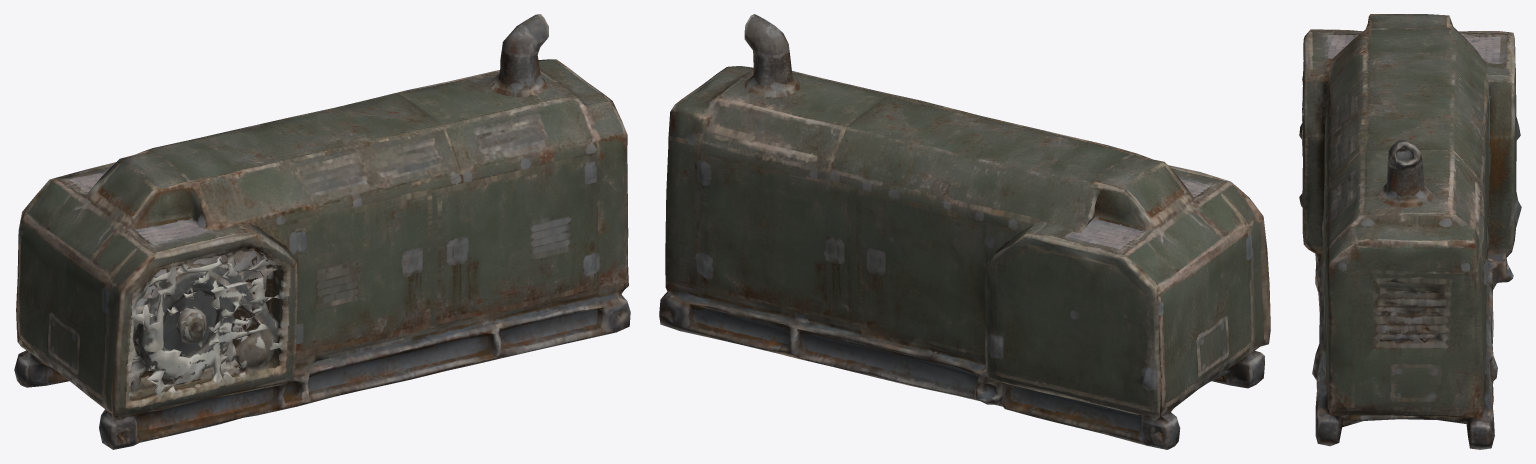
The model's file is bunker_diesel_generator_candidate.glb.
The picture shows the model from 3 angles, left to right: view 1: azimuth 30°, elevation 25°; view 2: azimuth 150°, elevation 25°; view 3: azimuth 270°, elevation 25°; orthographic projection. The views are drawn at different scales.
Parts seen in each view (by area): view 1: bunker_diesel_generator_candidate; view 2: bunker_diesel_generator_candidate; view 3: bunker_diesel_generator_candidate.
Boxes of the visible parts, x1,y1,x2,y2 form: bunker_diesel_generator_candidate: (14,14,630,449); bunker_diesel_generator_candidate: (659,14,1270,449); bunker_diesel_generator_candidate: (1299,14,1521,449).
Size of the model in its own units: 3.2 by 1.7 by 1.2.
Materials: 1 (1 with a texture image).
